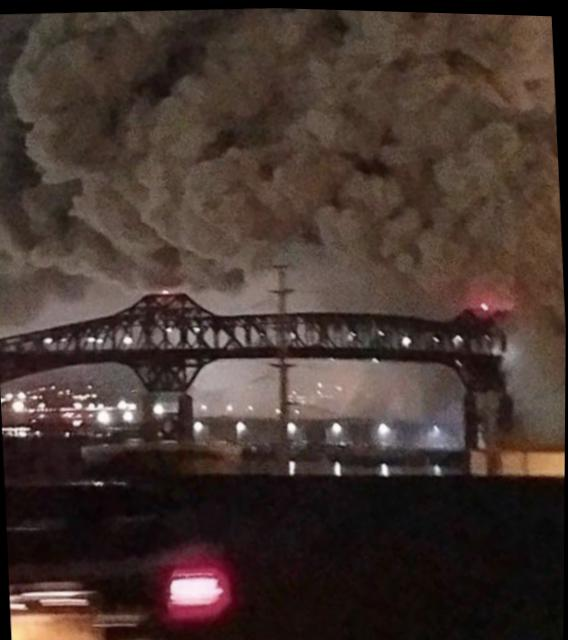smoke: (0, 0, 565, 308), (496, 279, 565, 445), (281, 360, 435, 417)
